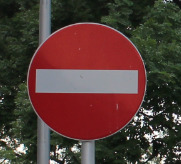no_entry: (27, 23, 146, 141)
